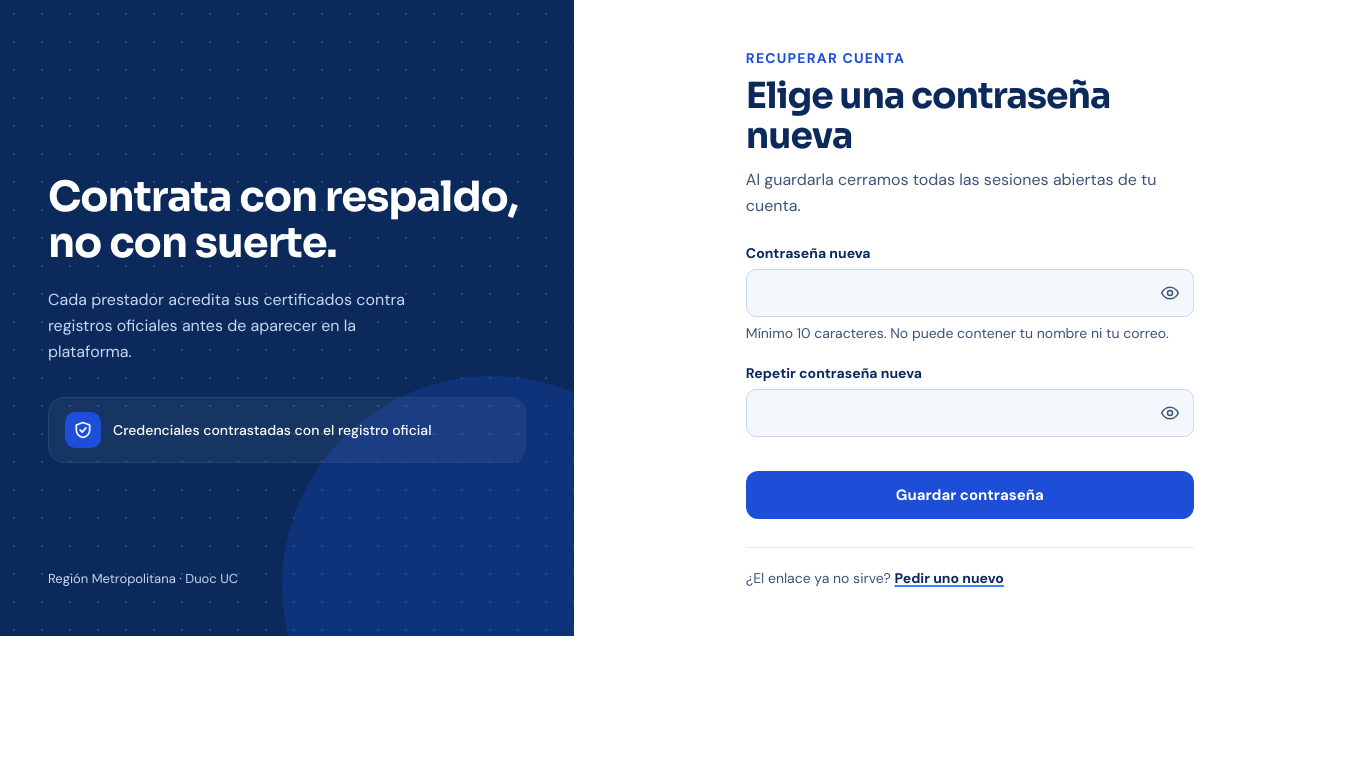
Test case: Restablecer contraseña: repetición › confirma en vivo cuando la repetición coincide
Step 1. Type "caballo-bateria-grapa" into the password field labelled "Contraseña nueva" → coordinates (970, 293), box [746,269,1194,317]
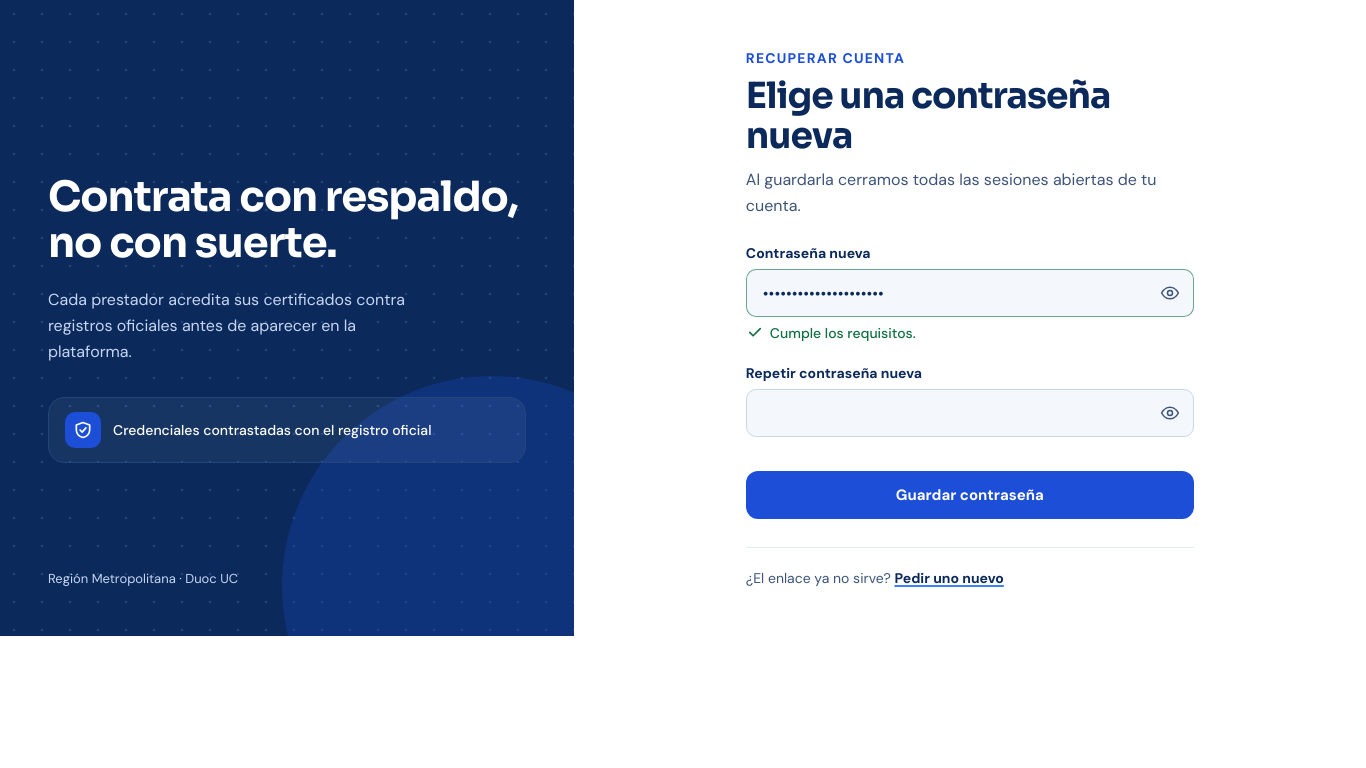
Step 2. Type "caballo-bateria-grapa" into the password field labelled "Repetir contraseña nueva" → coordinates (970, 413), box [746,389,1194,437]
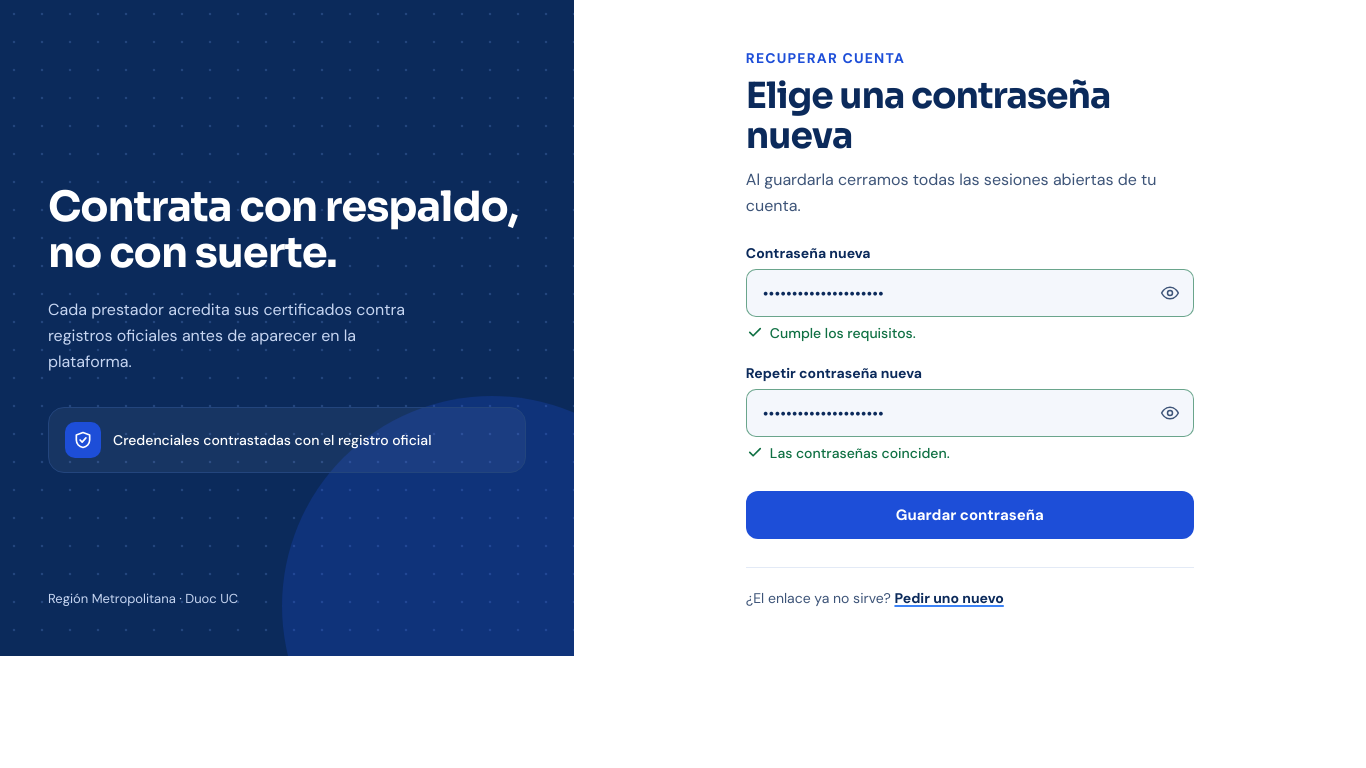
Result: the text "Las contraseñas coinciden." is shown at [746,443,950,463]
